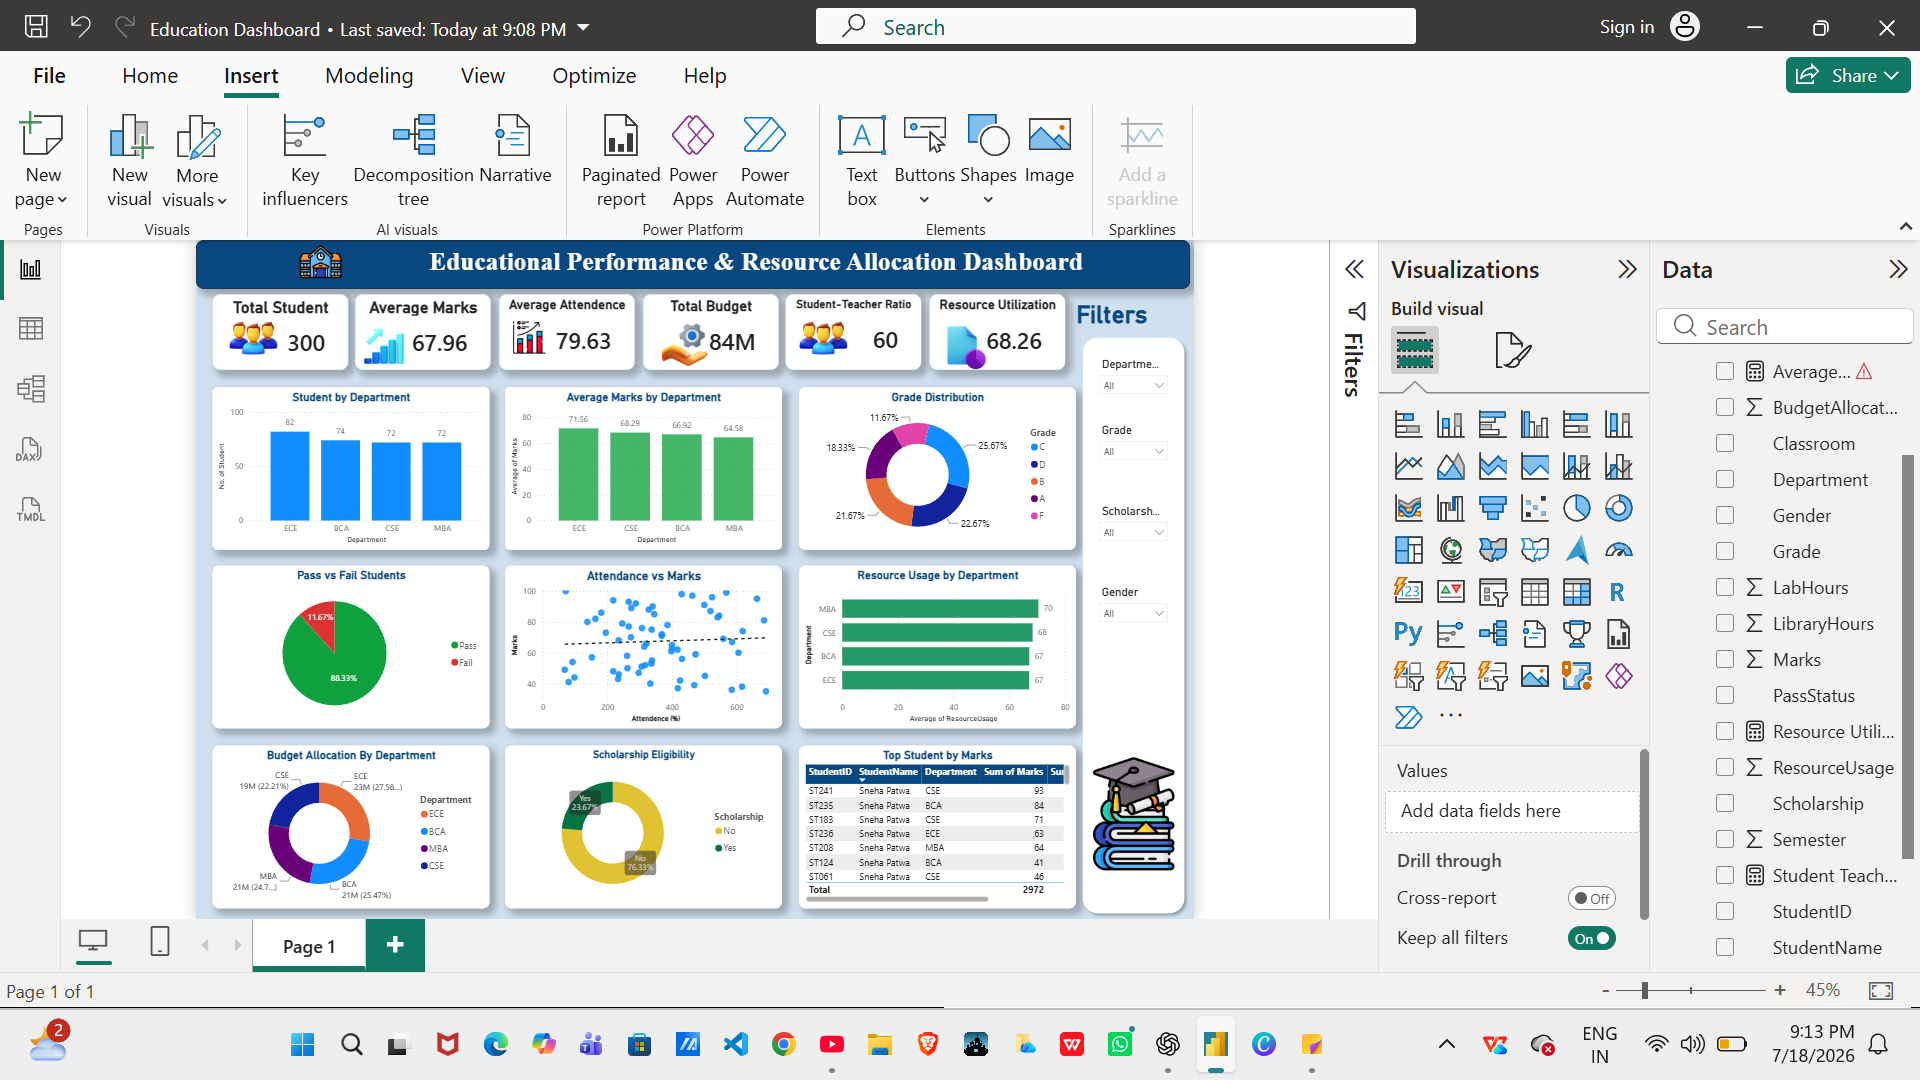

The page's visual inventory and layout, read from the dashboard file:
{"tool":"powerbi","page":{"name":"Page 1","canvas":[1469,1000],"ordinal":0},"visuals":[{"type":"textbox","box":[0,0,1464,72],"z":0},{"type":"image","box":[144,0,80,64],"z":1000},{"type":"cardVisual","title":"Total Student","fields":{"Data":["CountNonNull(Sheet.StudentID)"]},"box":[24,80,200,112],"z":2000},{"type":"cardVisual","title":"Average Marks","fields":{"Data":["Avg(Sheet.Marks)"]},"box":[235.2,80,200,112],"z":3000},{"type":"cardVisual","title":"Average Attendence","fields":{"Data":["Avg(Sheet.Attendance)"]},"box":[446.4,80,200,112],"z":4000},{"type":"cardVisual","title":"Total Budget","fields":{"Data":["Sum(Sheet.BudgetAllocated)"]},"box":[657.6,80,200,112],"z":5000},{"type":"cardVisual","title":" Student-Teacher Ratio ","fields":{"Data":["Sheet.Student Teacher Ratio 2"]},"box":[868.8,80,200,112],"z":6000},{"type":"cardVisual","title":"Resource Utilization","fields":{"Data":["Avg(Sheet.ResourceUsage)"]},"box":[1080,80,200,112],"z":7000},{"type":"clusteredColumnChart","title":"Student by Department","fields":{"Category":["Sheet.Department"],"Y":["CountNonNull(Sheet.StudentID)"]},"box":[24,216,408,240],"z":8000},{"type":"clusteredColumnChart","title":"Average Marks by Department","fields":{"Category":["Sheet.Department"],"Y":["Avg(Sheet.Marks)"]},"box":[456,216,408,240],"z":9000},{"type":"donutChart","title":"Grade Distribution","fields":{"Category":["Sheet.Grade"],"Y":["Count(Sheet.StudentID)"]},"box":[888,216,408,240],"z":10000},{"type":"pieChart","title":"Pass vs Fail Students","fields":{"Category":["Sheet.PassStatus"],"Y":["CountNonNull(Sheet.StudentID)"]},"box":[24,480,408,240],"z":11000},{"type":"scatterChart","title":"Attendance vs Marks","fields":{"Y":["Sheet.Marks"],"X":["Sum(Sheet.Attendance)"]},"box":[456,480,408,240],"z":12000},{"type":"clusteredBarChart","title":" Resource Usage by Department","fields":{"Category":["Sheet.Department"],"Y":["Avg(Sheet.ResourceUsage)"]},"box":[888,480,408,240],"z":13000},{"type":"donutChart","title":"Scholarship Eligibility","fields":{"Category":["Sheet.Scholarship"],"Y":["CountNonNull(Sheet.StudentID)"]},"box":[456,744,408,240],"z":14000},{"type":"donutChart","title":"Budget Allocation By Department","fields":{"Category":["Sheet.Department"],"Y":["Sum(Sheet.BudgetAllocated)"]},"box":[24,744,408,240],"z":15000},{"type":"tableEx","title":"Top Student by Marks ","fields":{"Values":["Sheet.StudentID","Sheet.StudentName","Sheet.Department","Sum(Sheet.Marks)","Sum(Sheet.Attendance)","Sheet.Grade"]},"box":[888,744,408,240],"z":16000},{"type":"shape","title":"Filters","box":[1296,88,168,912],"z":17000},{"type":"slicer","fields":{"Values":["Sheet.Department"]},"box":[1320,168,120,72],"z":18000},{"type":"slicer","fields":{"Values":["Sheet.Grade"]},"box":[1320,264,120,96],"z":19000},{"type":"slicer","fields":{"Values":["Sheet.Scholarship","Sheet.Department"]},"box":[1320,384,120,144],"z":20000},{"type":"slicer","fields":{"Values":["Sheet.Gender"]},"box":[1320,504,120,120],"z":21000},{"type":"image","box":[1320,816,120,120],"z":22000},{"type":"image","box":[648,120,144,72],"z":22001},{"type":"image","box":[240,120,72,72],"z":22002},{"type":"image","box":[48,96,72,96],"z":22003},{"type":"image","box":[888,96,72,96],"z":22004},{"type":"image","box":[1080,120,96,72],"z":22005},{"type":"image","box":[1320,744,120,120],"z":22006},{"type":"image","box":[456,120,72,48],"z":22007}]}

Visuals, with their boxes on the page's 1469x1000 design canvas (x1, y1, x2, y2). These are canvas units, not pixel positions in the 1920x1080 screenshot, which may show the page scaled, cropped or inside an application window:
textbox: (x1=0, y1=0, x2=1464, y2=72)
image: (x1=144, y1=0, x2=224, y2=64)
"Total Student" cardVisual: (x1=24, y1=80, x2=224, y2=192)
"Average Marks" cardVisual: (x1=235, y1=80, x2=435, y2=192)
"Average Attendence" cardVisual: (x1=446, y1=80, x2=646, y2=192)
"Total Budget" cardVisual: (x1=658, y1=80, x2=858, y2=192)
" Student-Teacher Ratio " cardVisual: (x1=869, y1=80, x2=1069, y2=192)
"Resource Utilization" cardVisual: (x1=1080, y1=80, x2=1280, y2=192)
"Student by Department" clusteredColumnChart: (x1=24, y1=216, x2=432, y2=456)
"Average Marks by Department" clusteredColumnChart: (x1=456, y1=216, x2=864, y2=456)
"Grade Distribution" donutChart: (x1=888, y1=216, x2=1296, y2=456)
"Pass vs Fail Students" pieChart: (x1=24, y1=480, x2=432, y2=720)
"Attendance vs Marks" scatterChart: (x1=456, y1=480, x2=864, y2=720)
" Resource Usage by Department" clusteredBarChart: (x1=888, y1=480, x2=1296, y2=720)
"Scholarship Eligibility" donutChart: (x1=456, y1=744, x2=864, y2=984)
"Budget Allocation By Department" donutChart: (x1=24, y1=744, x2=432, y2=984)
"Top Student by Marks " tableEx: (x1=888, y1=744, x2=1296, y2=984)
"Filters" shape: (x1=1296, y1=88, x2=1464, y2=1000)
slicer - Sheet.Department: (x1=1320, y1=168, x2=1440, y2=240)
slicer - Sheet.Grade: (x1=1320, y1=264, x2=1440, y2=360)
slicer - Sheet.Scholarship x Sheet.Department: (x1=1320, y1=384, x2=1440, y2=528)
slicer - Sheet.Gender: (x1=1320, y1=504, x2=1440, y2=624)
image: (x1=1320, y1=816, x2=1440, y2=936)
image: (x1=648, y1=120, x2=792, y2=192)
image: (x1=240, y1=120, x2=312, y2=192)
image: (x1=48, y1=96, x2=120, y2=192)
image: (x1=888, y1=96, x2=960, y2=192)
image: (x1=1080, y1=120, x2=1176, y2=192)
image: (x1=1320, y1=744, x2=1440, y2=864)
image: (x1=456, y1=120, x2=528, y2=168)
